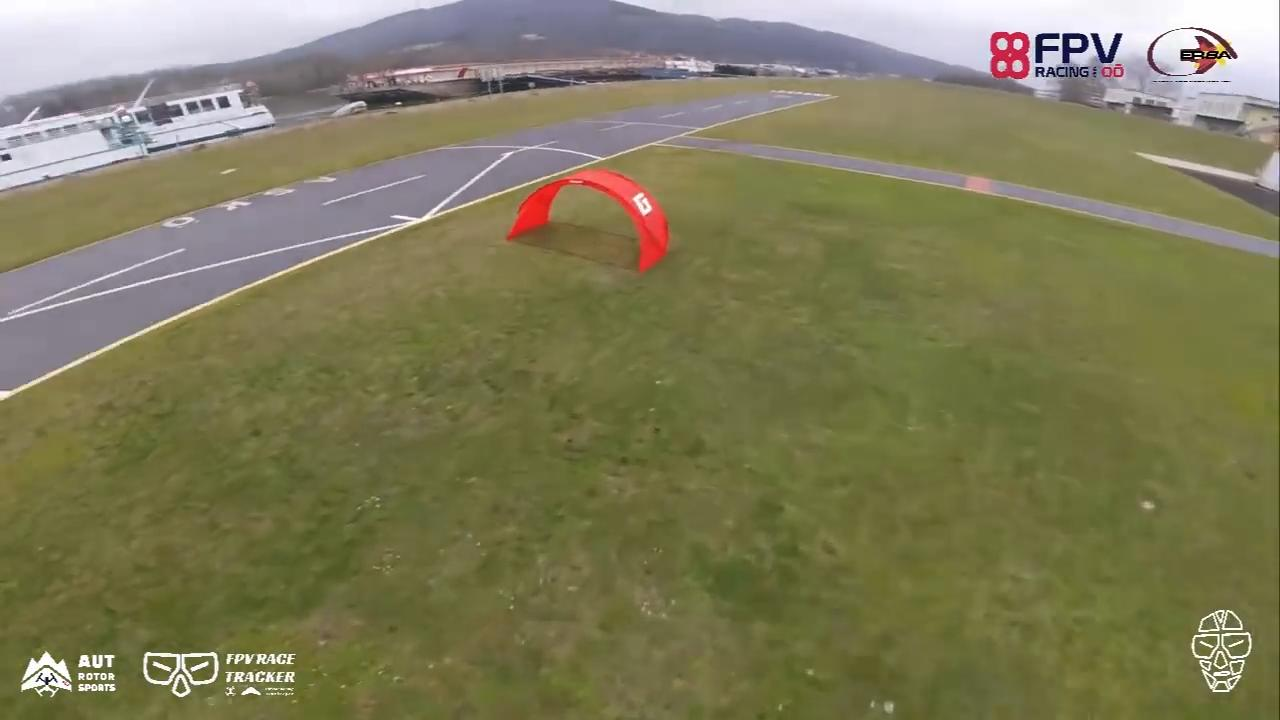gate: (505, 166, 670, 275)
